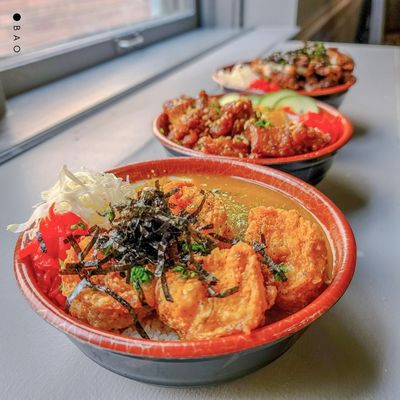curry: (130, 265, 152, 291)
sushi: (11, 136, 358, 389), (150, 87, 355, 186)
